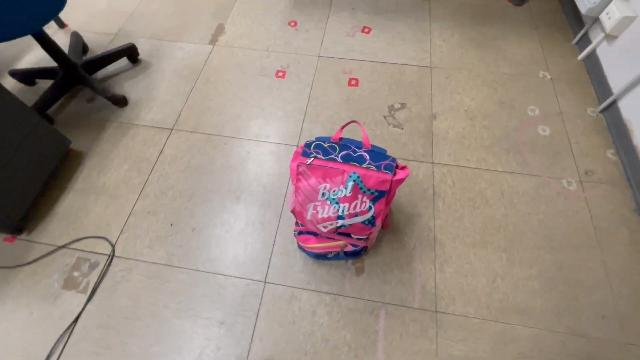Backpack: (282, 115, 416, 267)
